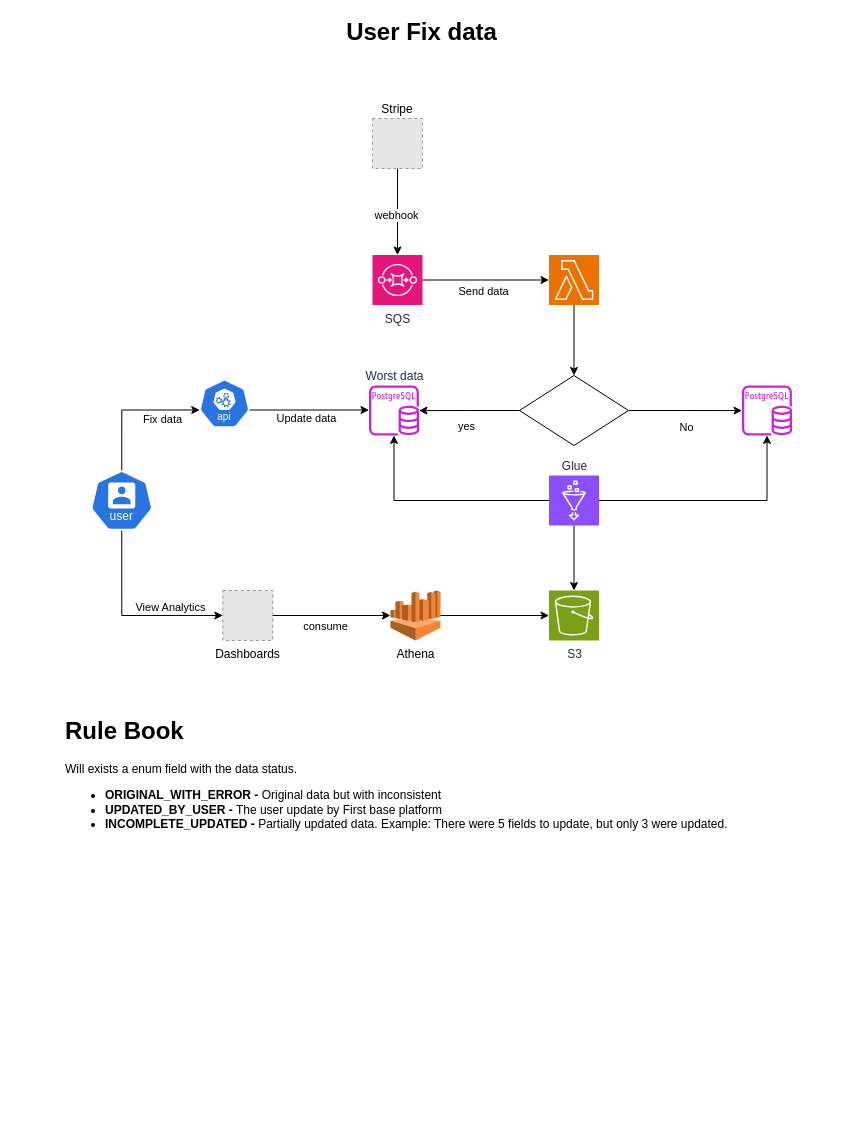
This 843x1128 diagram has some shape labels left out. Grey dashed boxes stand in for pictures. Here are the shapes that lost their labels. From the top down, the centre of each, then its label:
the point at 573,279: Lambda
the point at 573,410: inconsistent data ?
the point at 767,410: Correct Data
